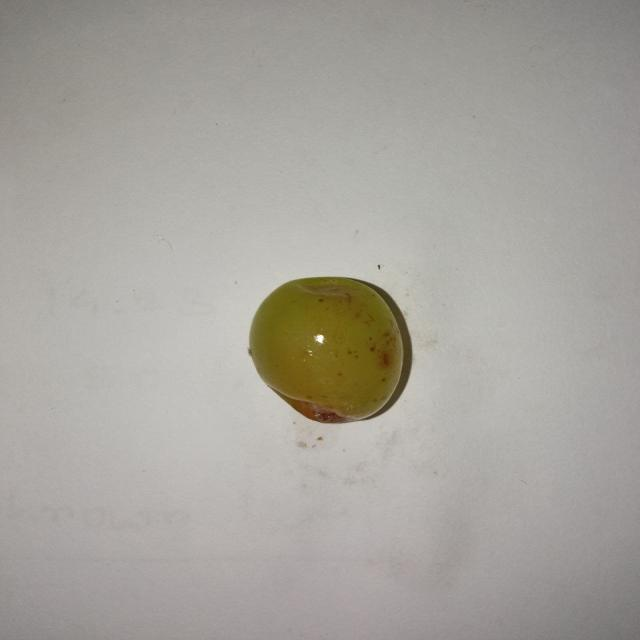rotten_grape: (242, 272, 409, 424)
